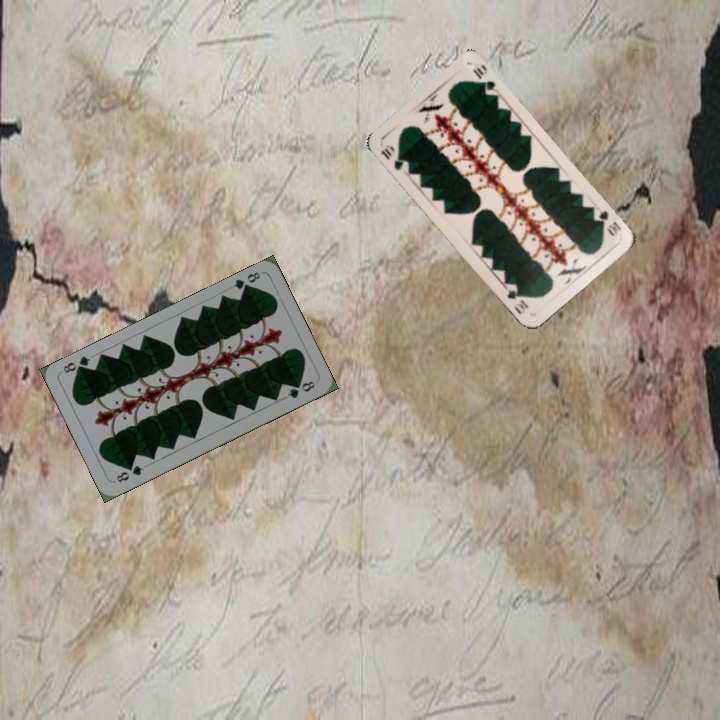G10: (589, 206, 624, 238), (376, 140, 407, 173)
G8: (229, 268, 263, 295), (112, 461, 146, 485)
